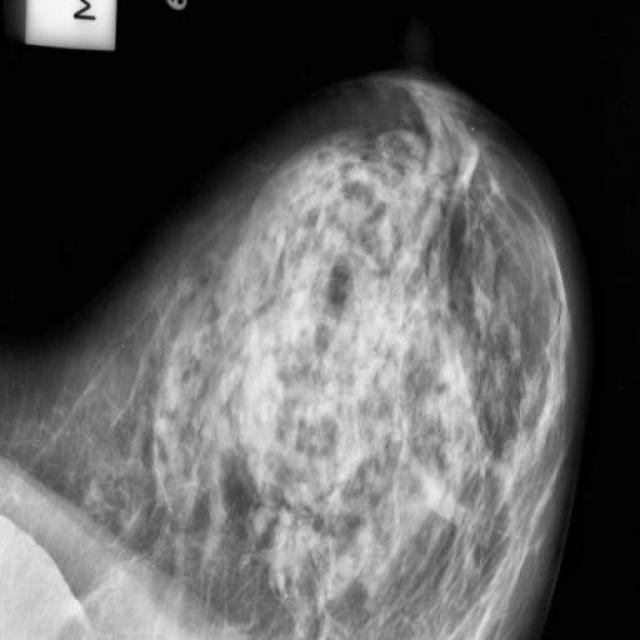cancer: (259, 484, 312, 546)
